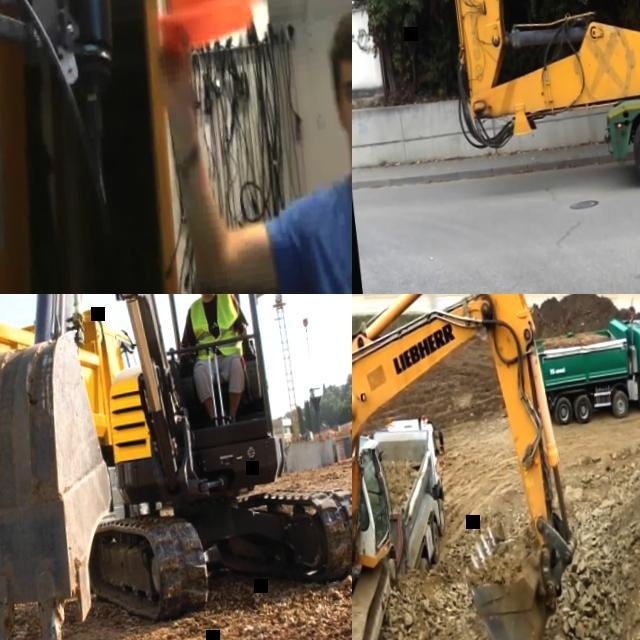NO-Hardhat: (324, 5, 352, 76)
NO-Mask: (200, 294, 215, 298)
NO-Safety Vest: (310, 177, 352, 294), (186, 294, 243, 357)
Person: (151, 0, 352, 294), (167, 294, 260, 427), (359, 503, 369, 529)
Safety Cone: (129, 0, 261, 54)
machinery: (0, 294, 352, 640), (352, 294, 599, 640), (0, 294, 169, 637), (428, 0, 640, 151), (369, 410, 460, 578), (530, 312, 640, 431)
